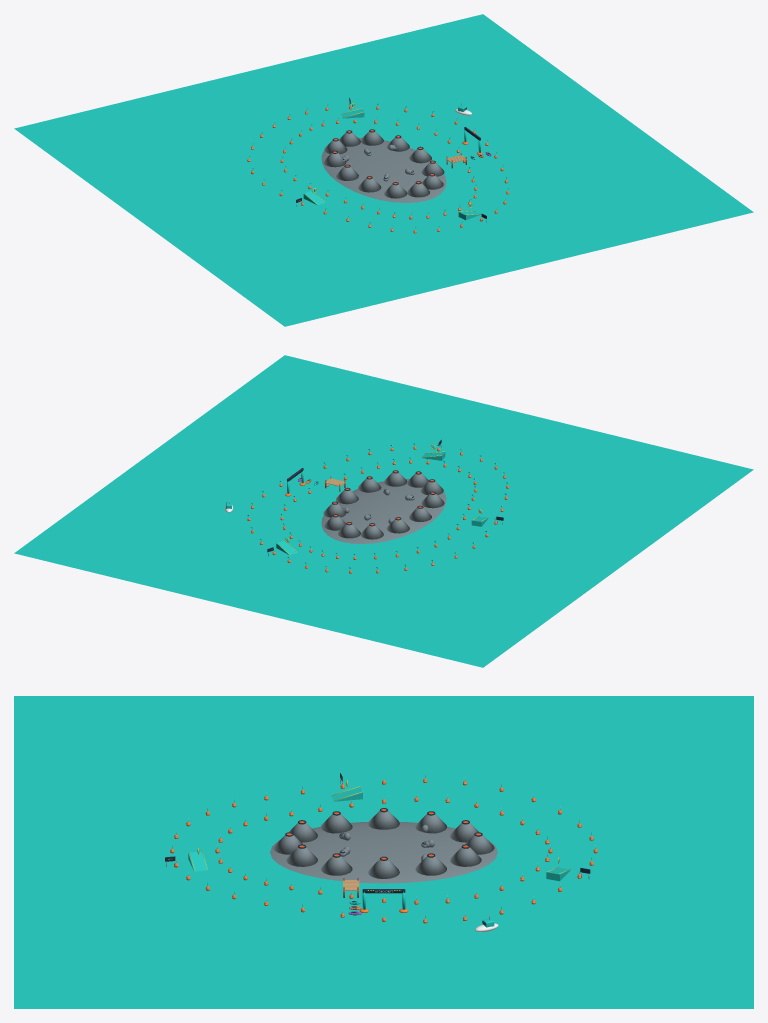
File: Track_Ember_Atoll.glb
3 views of the same model, one above another, from view 1: azimuth 30°, elevation 25°; view 2: azimuth 150°, elevation 25°; view 3: azimuth 270°, elevation 25° (orthographic). The views are drawn at different scales.
Visible parts, largest first — view 1: Water_preview_surface.005, Central_island.005; view 2: Water_preview_surface.005, Central_island.005; view 3: Water_preview_surface.005, Central_island.005.
Boxes of the visible parts, x1,y1,x2,y2 form: Water_preview_surface.005: (14, 14, 753, 326); Central_island.005: (321, 138, 446, 202); Water_preview_surface.005: (14, 355, 753, 667); Central_island.005: (321, 479, 446, 543); Water_preview_surface.005: (14, 696, 753, 1008); Central_island.005: (270, 821, 497, 883).
Bounding box in the file's own units: 180 × 10.64 × 180.
